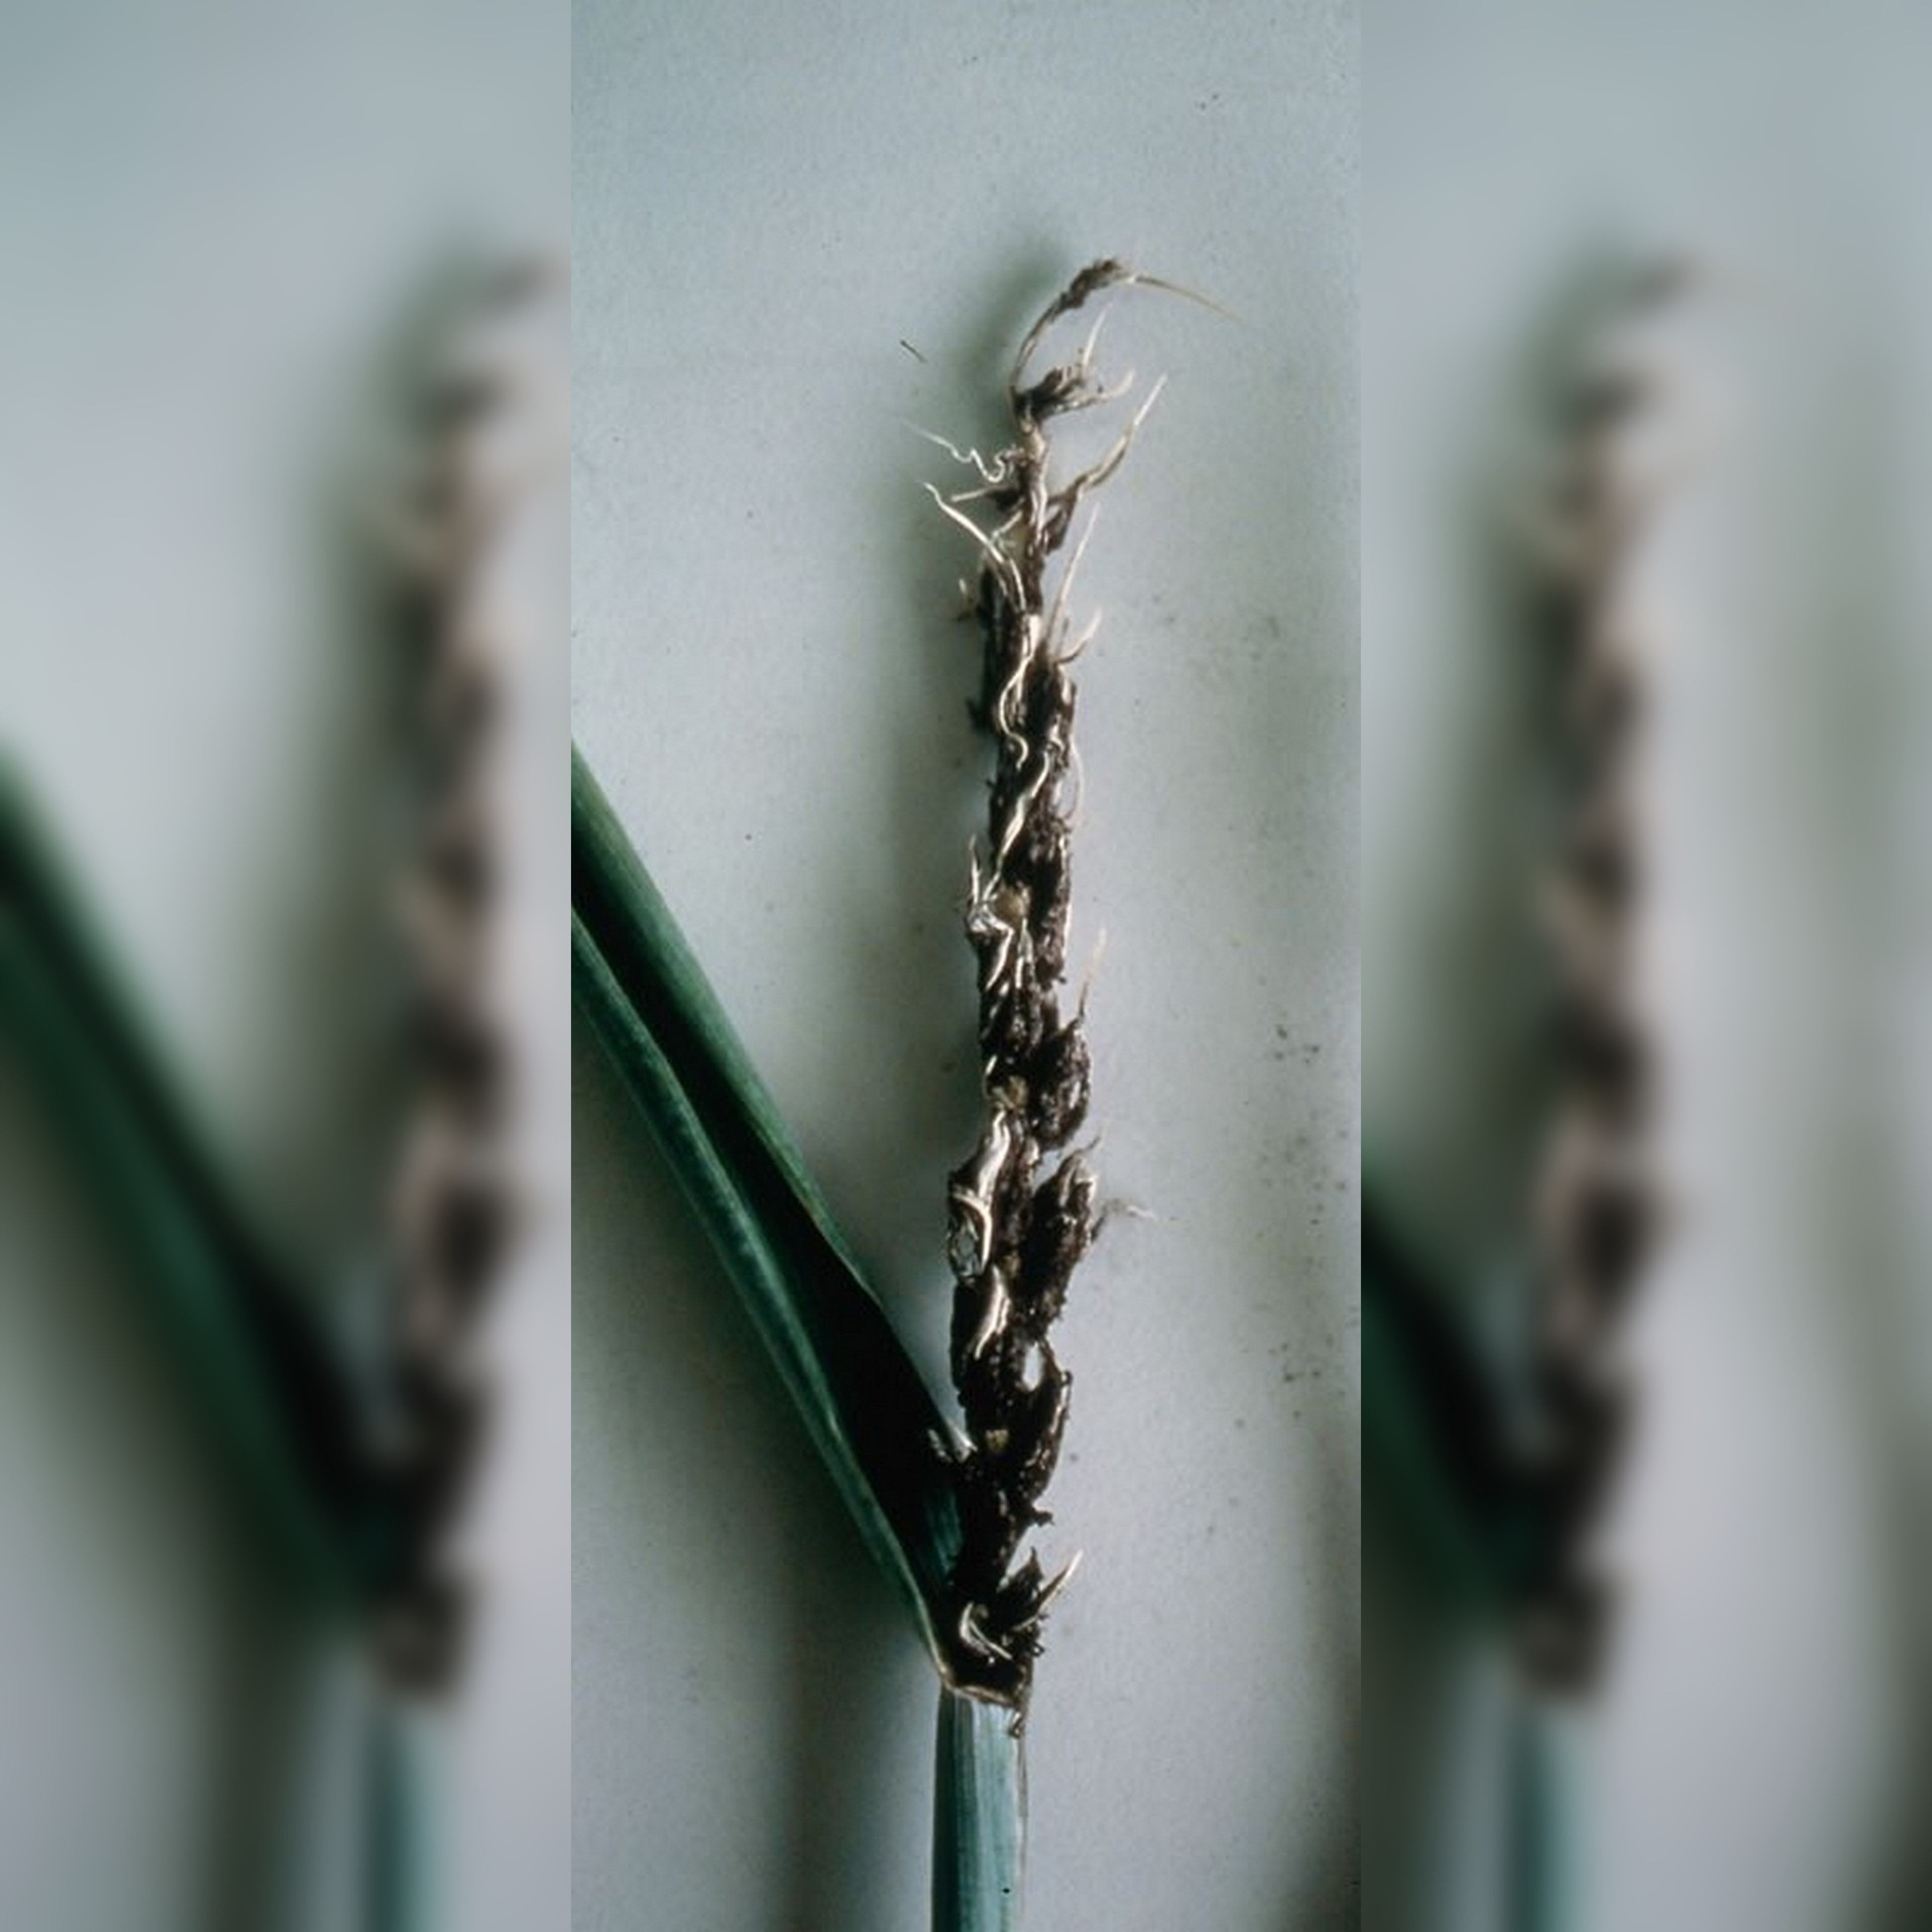Wheat Loose Smut: (878, 209, 1164, 1660)
